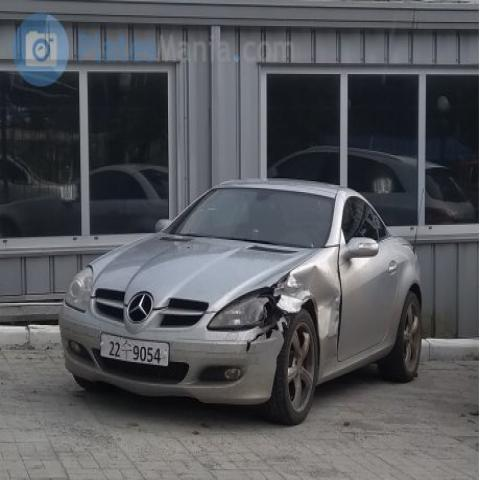LP: (96, 326, 173, 374)
